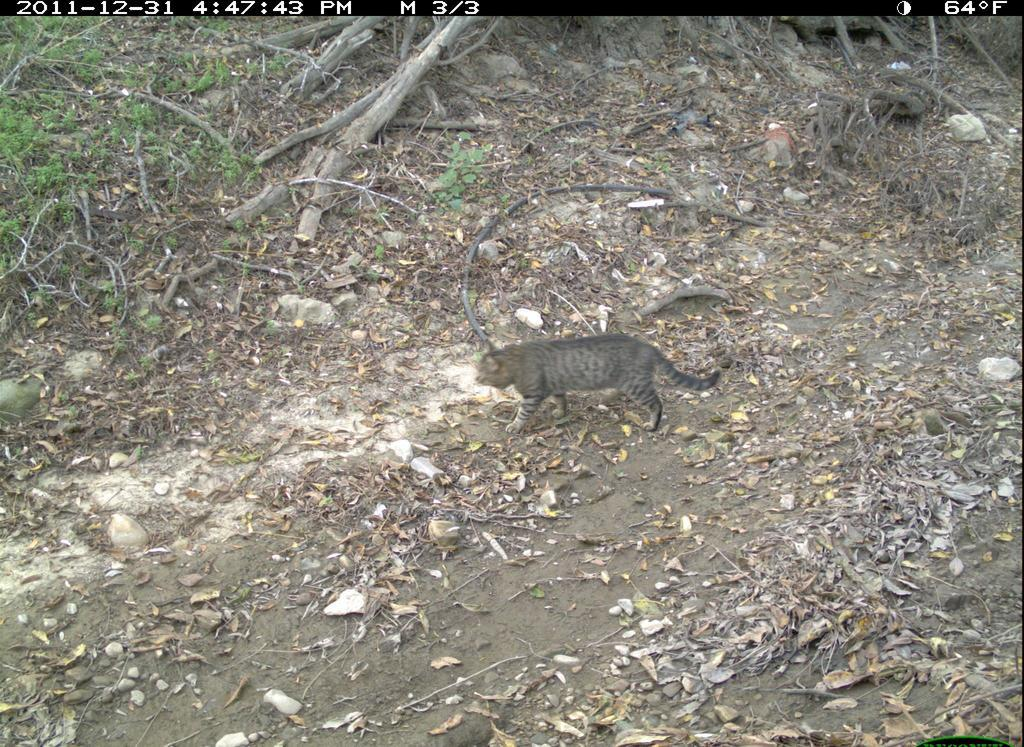cat: (460, 301, 737, 470)
